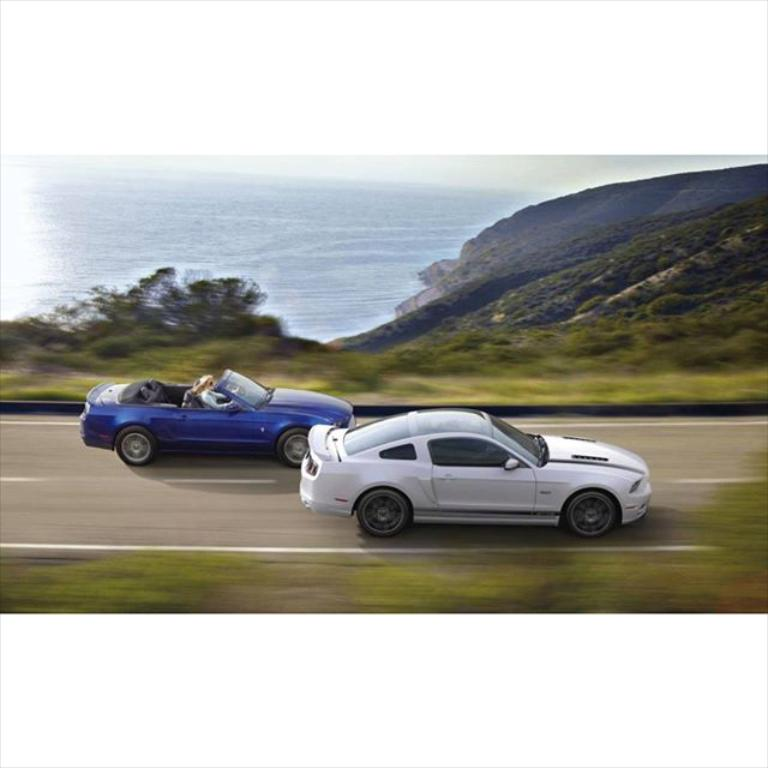Car: (292, 408, 634, 540), (76, 362, 358, 466)
